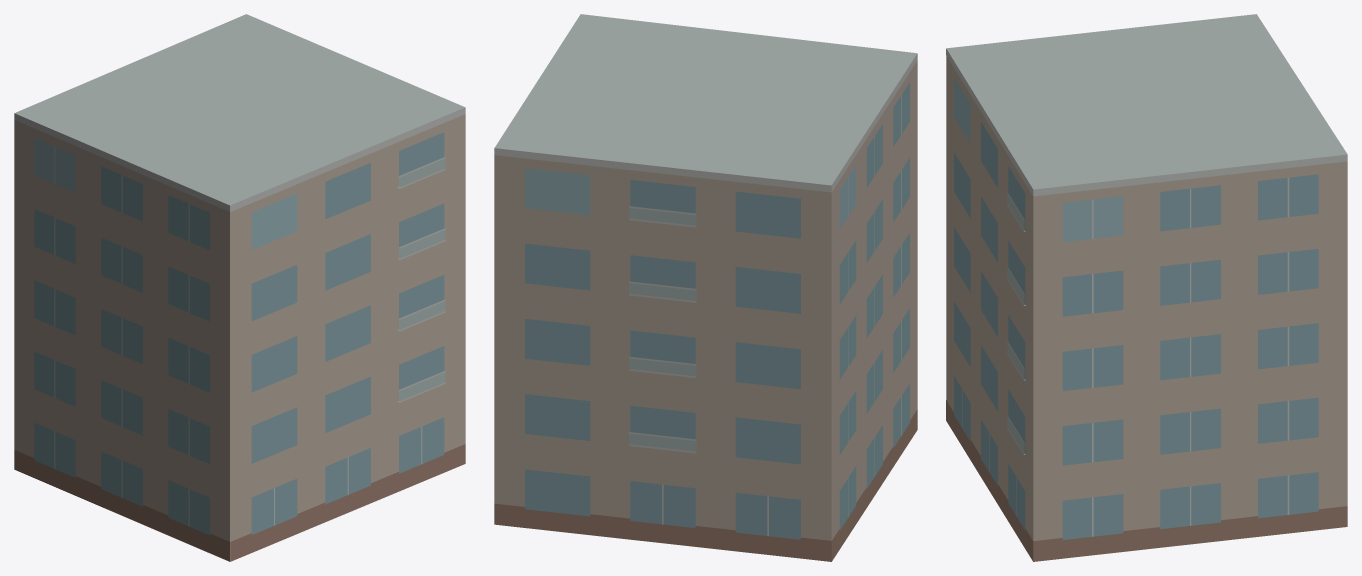
The model's file is survey-upis-32971434.glb.
3 renders of one model, left to right at view 1: azimuth 30°, elevation 25°; view 2: azimuth 150°, elevation 25°; view 3: azimuth 270°, elevation 25°, orthographic. The views are drawn at different scales.
Parts seen in each view (by area): view 1: survey-upis-32971434.tmp; view 2: survey-upis-32971434.tmp; view 3: survey-upis-32971434.tmp.
Boxes of the visible parts, x1=… form: survey-upis-32971434.tmp: x1=14, y1=14, x2=465, y2=561; survey-upis-32971434.tmp: x1=494, y1=14, x2=917, y2=561; survey-upis-32971434.tmp: x1=946, y1=14, x2=1347, y2=561.
Size of the model in its own units: 13.42 by 13.25 by 12.97.
